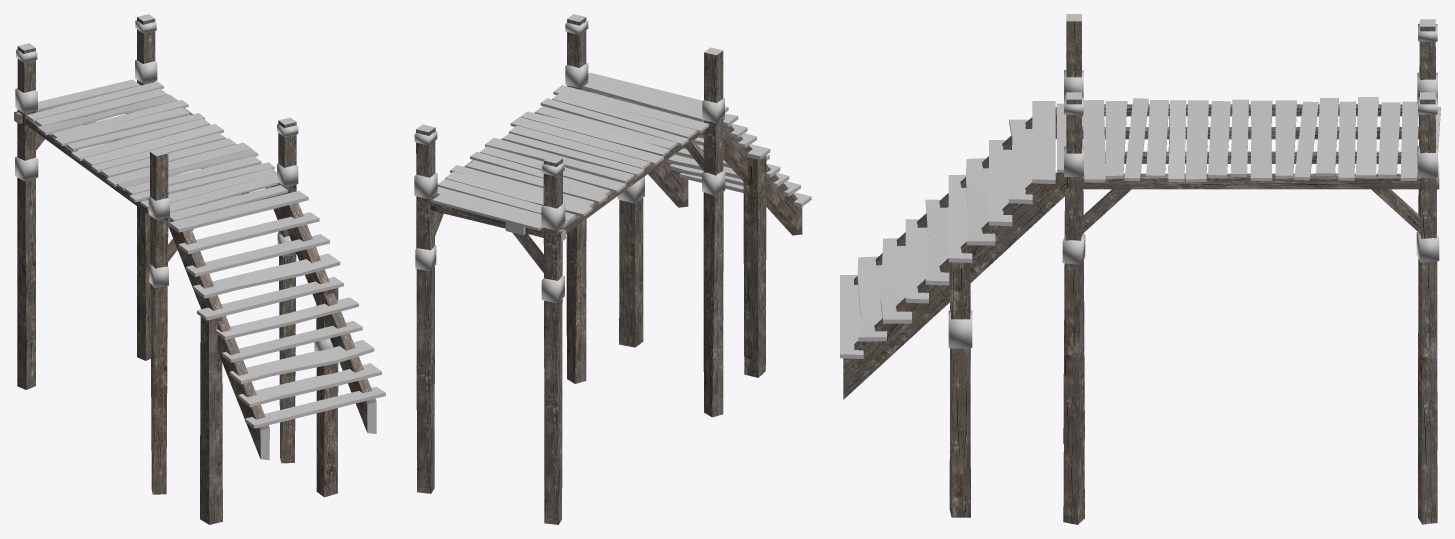
File: WoodStairs1.fbx
The picture shows the model from 3 angles, left to right: view 1: azimuth 30°, elevation 25°; view 2: azimuth 150°, elevation 25°; view 3: azimuth 270°, elevation 25°; orthographic projection. The views are drawn at different scales.
Parts seen in each view (by area): view 1: polySurface121; view 2: polySurface121; view 3: polySurface121.
Part boxes in pixels (<box>): polySurface121: <box>14,14,385,524</box>; polySurface121: <box>414,14,811,524</box>; polySurface121: <box>840,14,1440,524</box>.
Bounding box in the file's own units: 2.84 × 6.21 × 7.97.
